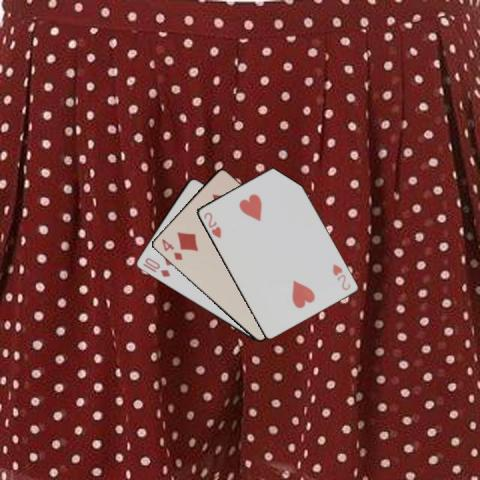10d: (142, 254, 172, 278)
2h: (200, 209, 222, 239), (330, 261, 352, 291)
4d: (159, 235, 183, 262)
